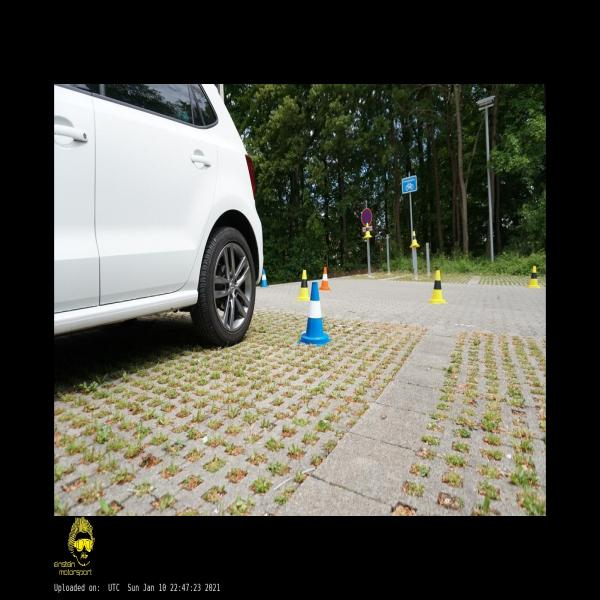blue_cone: (297, 282, 332, 346), (260, 268, 268, 288)
orange_cone: (320, 267, 332, 290)
yellow_cone: (427, 270, 448, 304), (297, 270, 310, 301), (527, 266, 540, 288), (410, 231, 420, 247), (364, 222, 372, 238)
